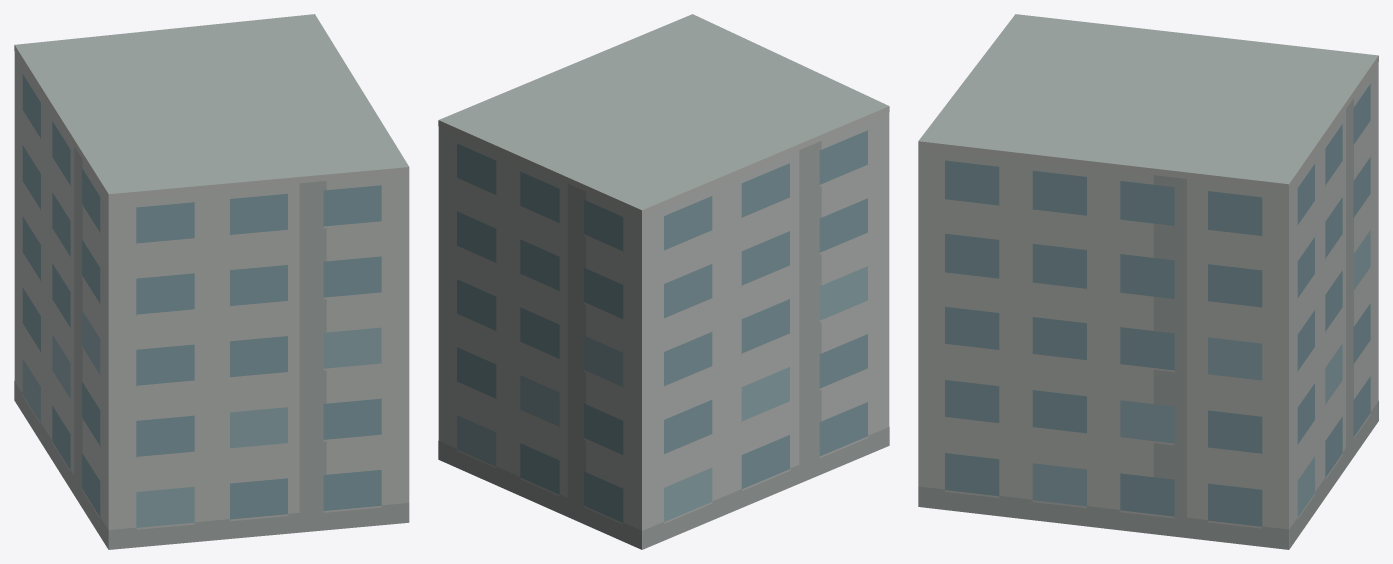
The model's file is survey-upis-32831189.glb.
3 views of the same model, side by side, from view 1: azimuth 30°, elevation 25°; view 2: azimuth 150°, elevation 25°; view 3: azimuth 270°, elevation 25° (orthographic). The views are drawn at different scales.
Parts seen in each view (by area): view 1: survey-upis-32831189.tmp; view 2: survey-upis-32831189.tmp; view 3: survey-upis-32831189.tmp.
Boxes of the visible parts, x1=… form: survey-upis-32831189.tmp: x1=14, y1=14, x2=409, y2=549; survey-upis-32831189.tmp: x1=438, y1=14, x2=889, y2=549; survey-upis-32831189.tmp: x1=918, y1=14, x2=1378, y2=549.
Size of the model in its own units: 13.54 by 13.55 by 15.47.
